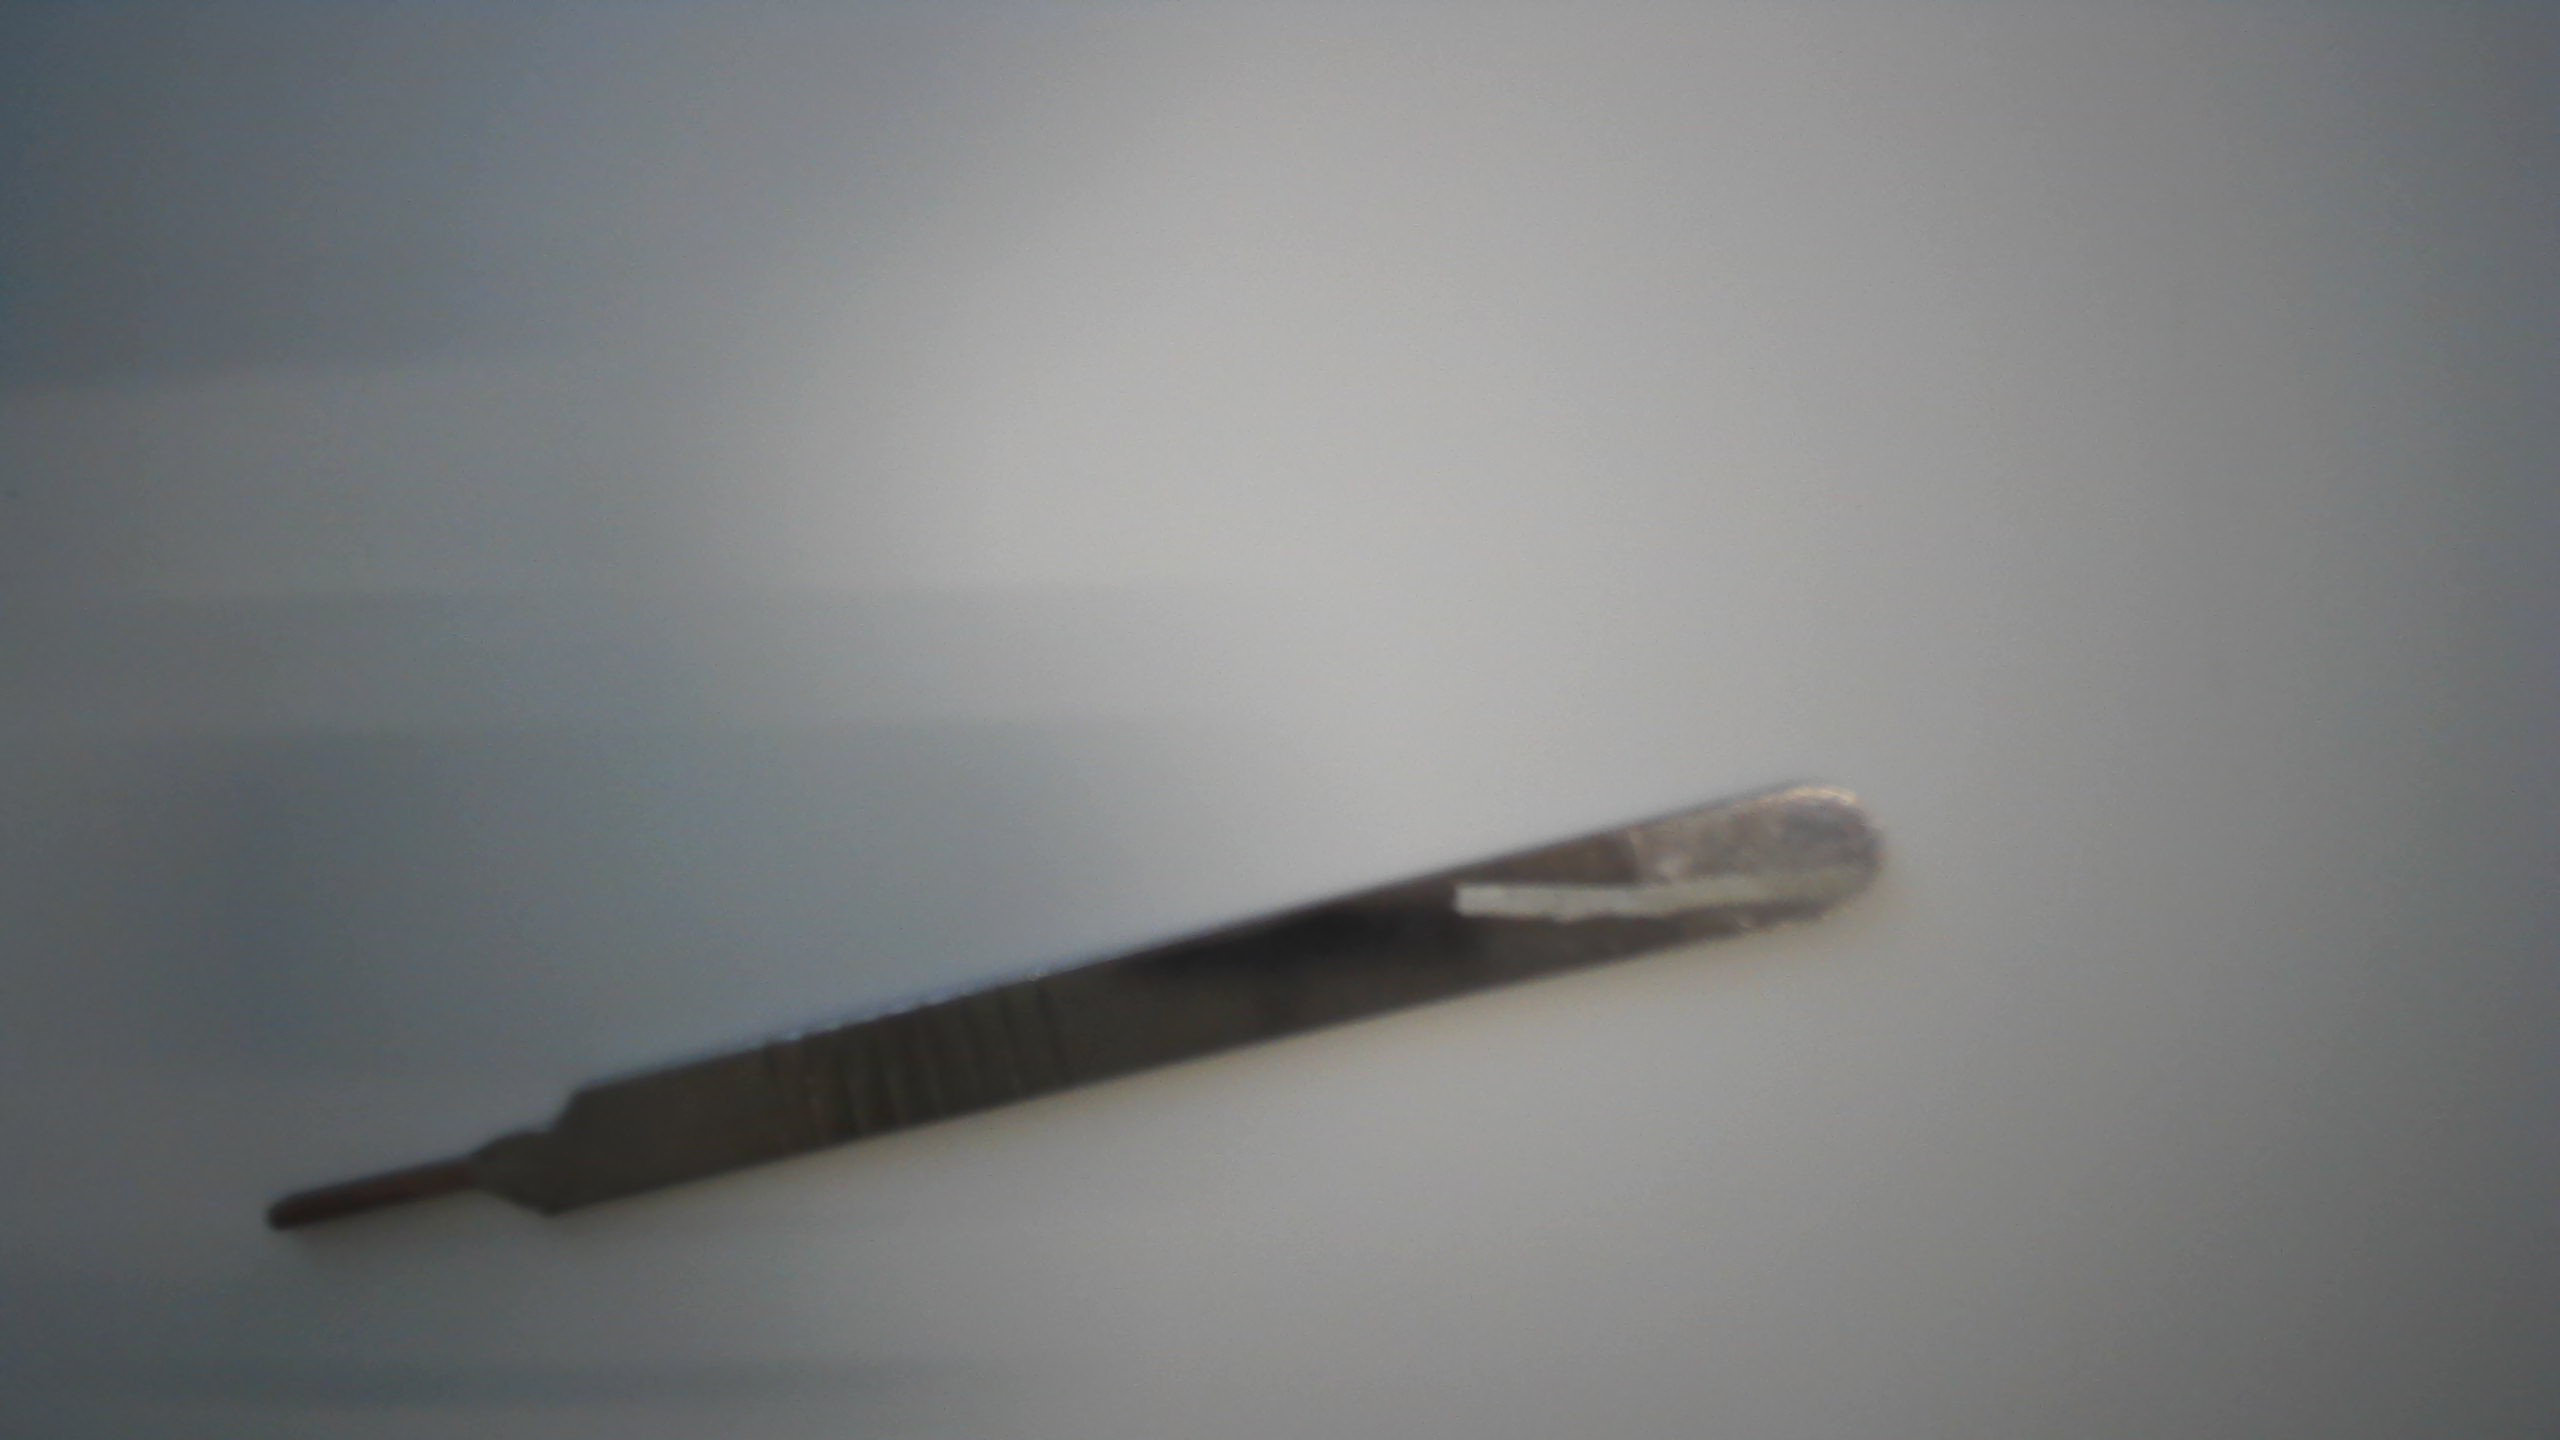Scratches: (1445, 867, 1885, 932)
